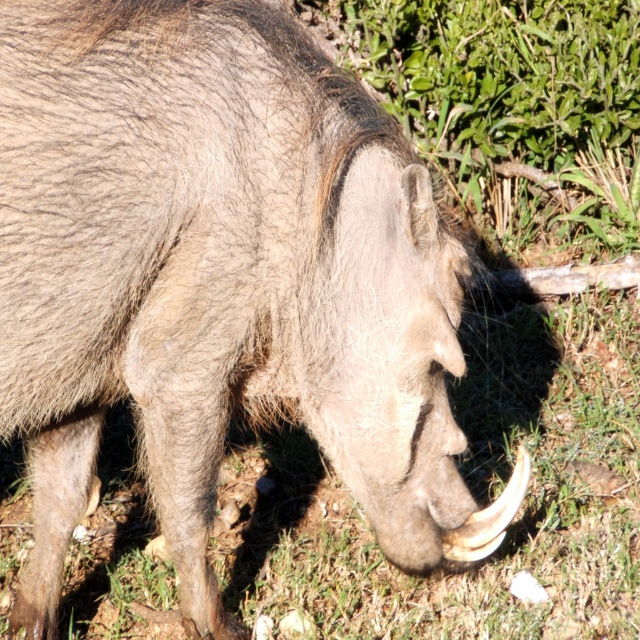Pig: (0, 0, 532, 640)
